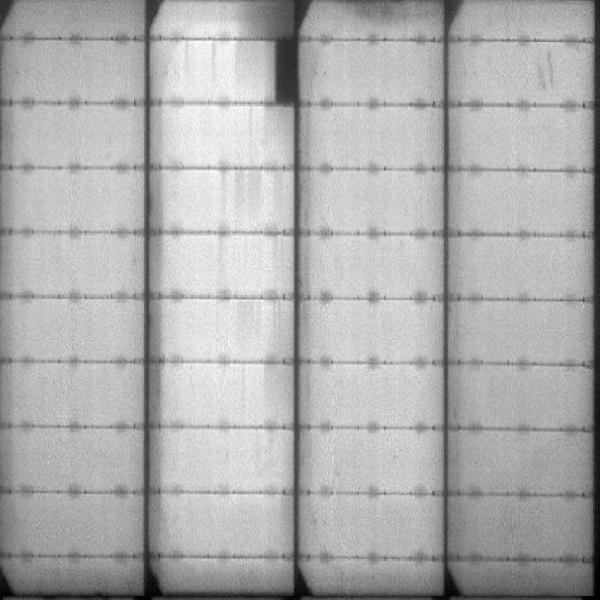black_border: (271, 34, 304, 110)
scratch: (535, 47, 559, 97)
